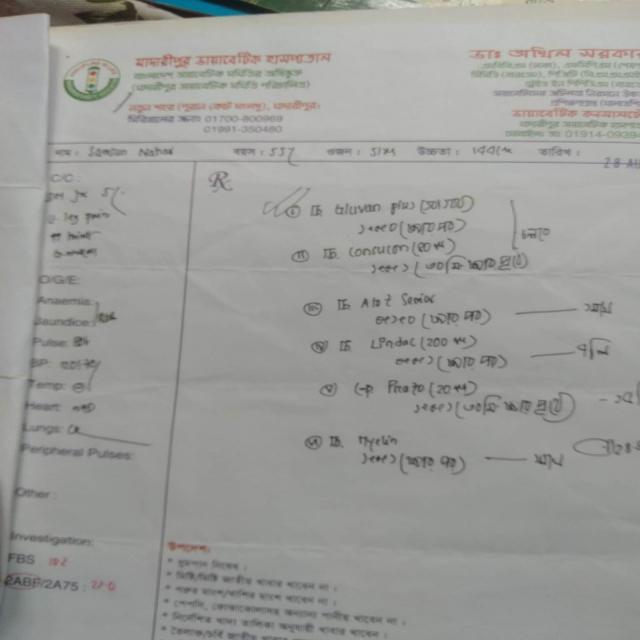ATOZ Senior: (357, 287, 440, 316)
Consucon: (345, 238, 415, 262)
Gluvan Plus: (327, 190, 420, 221)
Lindac: (364, 329, 423, 353)
Myelin: (346, 428, 404, 454)
Prazo: (378, 374, 430, 399)
